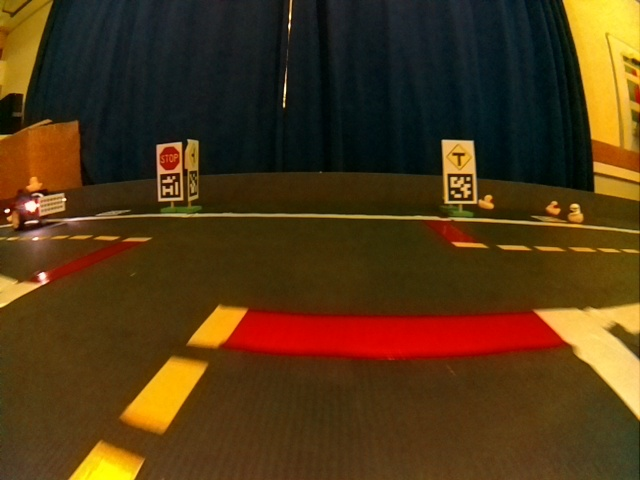Duckie: (568, 204, 584, 222), (26, 177, 42, 191), (479, 195, 494, 209), (546, 201, 560, 214)
Duckiebot: (6, 191, 66, 229)
Intersection sign: (447, 144, 472, 171), (189, 142, 198, 165)
QR code: (447, 173, 474, 201), (159, 173, 181, 199), (188, 172, 198, 197)
Stop sign: (159, 146, 179, 170)
